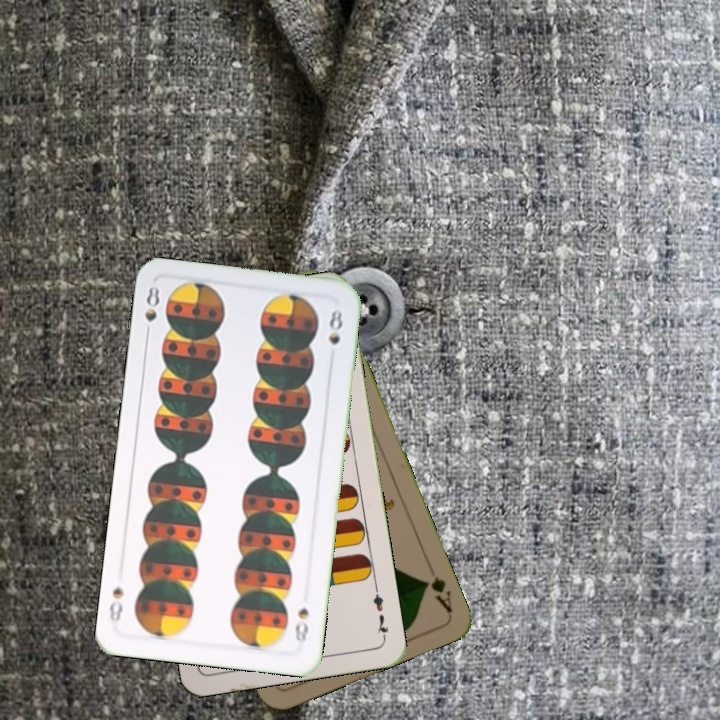E7: (369, 583, 391, 642)
GA: (419, 572, 455, 616)
S8: (141, 283, 162, 341), (291, 604, 312, 647)
